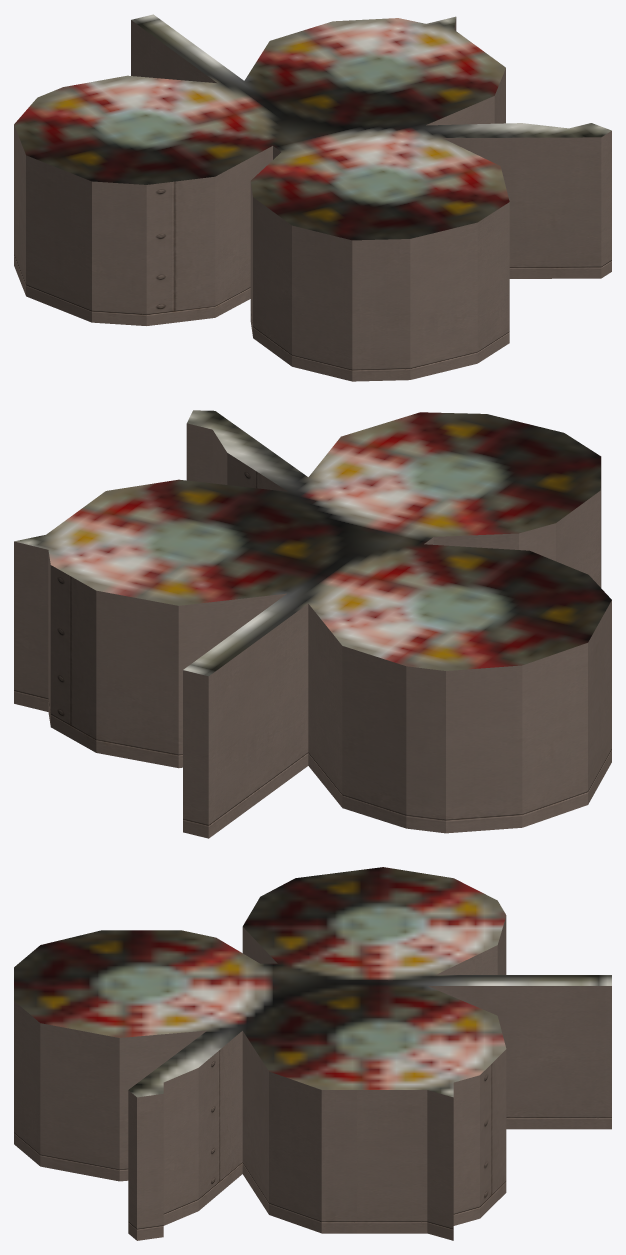
File: fuel_tank_hard_07.glb
3 renders of one model, top to bottom at view 1: azimuth 30°, elevation 25°; view 2: azimuth 150°, elevation 25°; view 3: azimuth 270°, elevation 25°, orthographic. The views are drawn at different scales.
Parts seen in each view (by area): view 1: buildings/saxarba/fuel_tanks/fuel_tank_hard_07; view 2: buildings/saxarba/fuel_tanks/fuel_tank_hard_07; view 3: buildings/saxarba/fuel_tanks/fuel_tank_hard_07.
Boxes of the visible parts, x1,y1,x2,y2 form: buildings/saxarba/fuel_tanks/fuel_tank_hard_07: [14, 14, 611, 381]; buildings/saxarba/fuel_tanks/fuel_tank_hard_07: [14, 410, 611, 838]; buildings/saxarba/fuel_tanks/fuel_tank_hard_07: [14, 867, 611, 1240].
Size of the model in its own units: 62 by 18 by 68.
